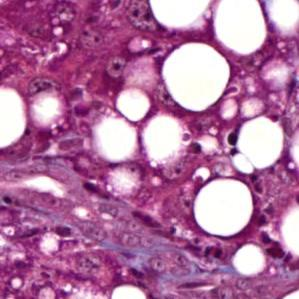steatosis: (165, 40, 227, 108), (187, 176, 254, 235), (232, 120, 289, 172), (214, 0, 268, 52), (90, 120, 140, 162), (145, 115, 184, 163), (110, 86, 151, 119), (230, 241, 268, 275), (265, 0, 299, 29)
